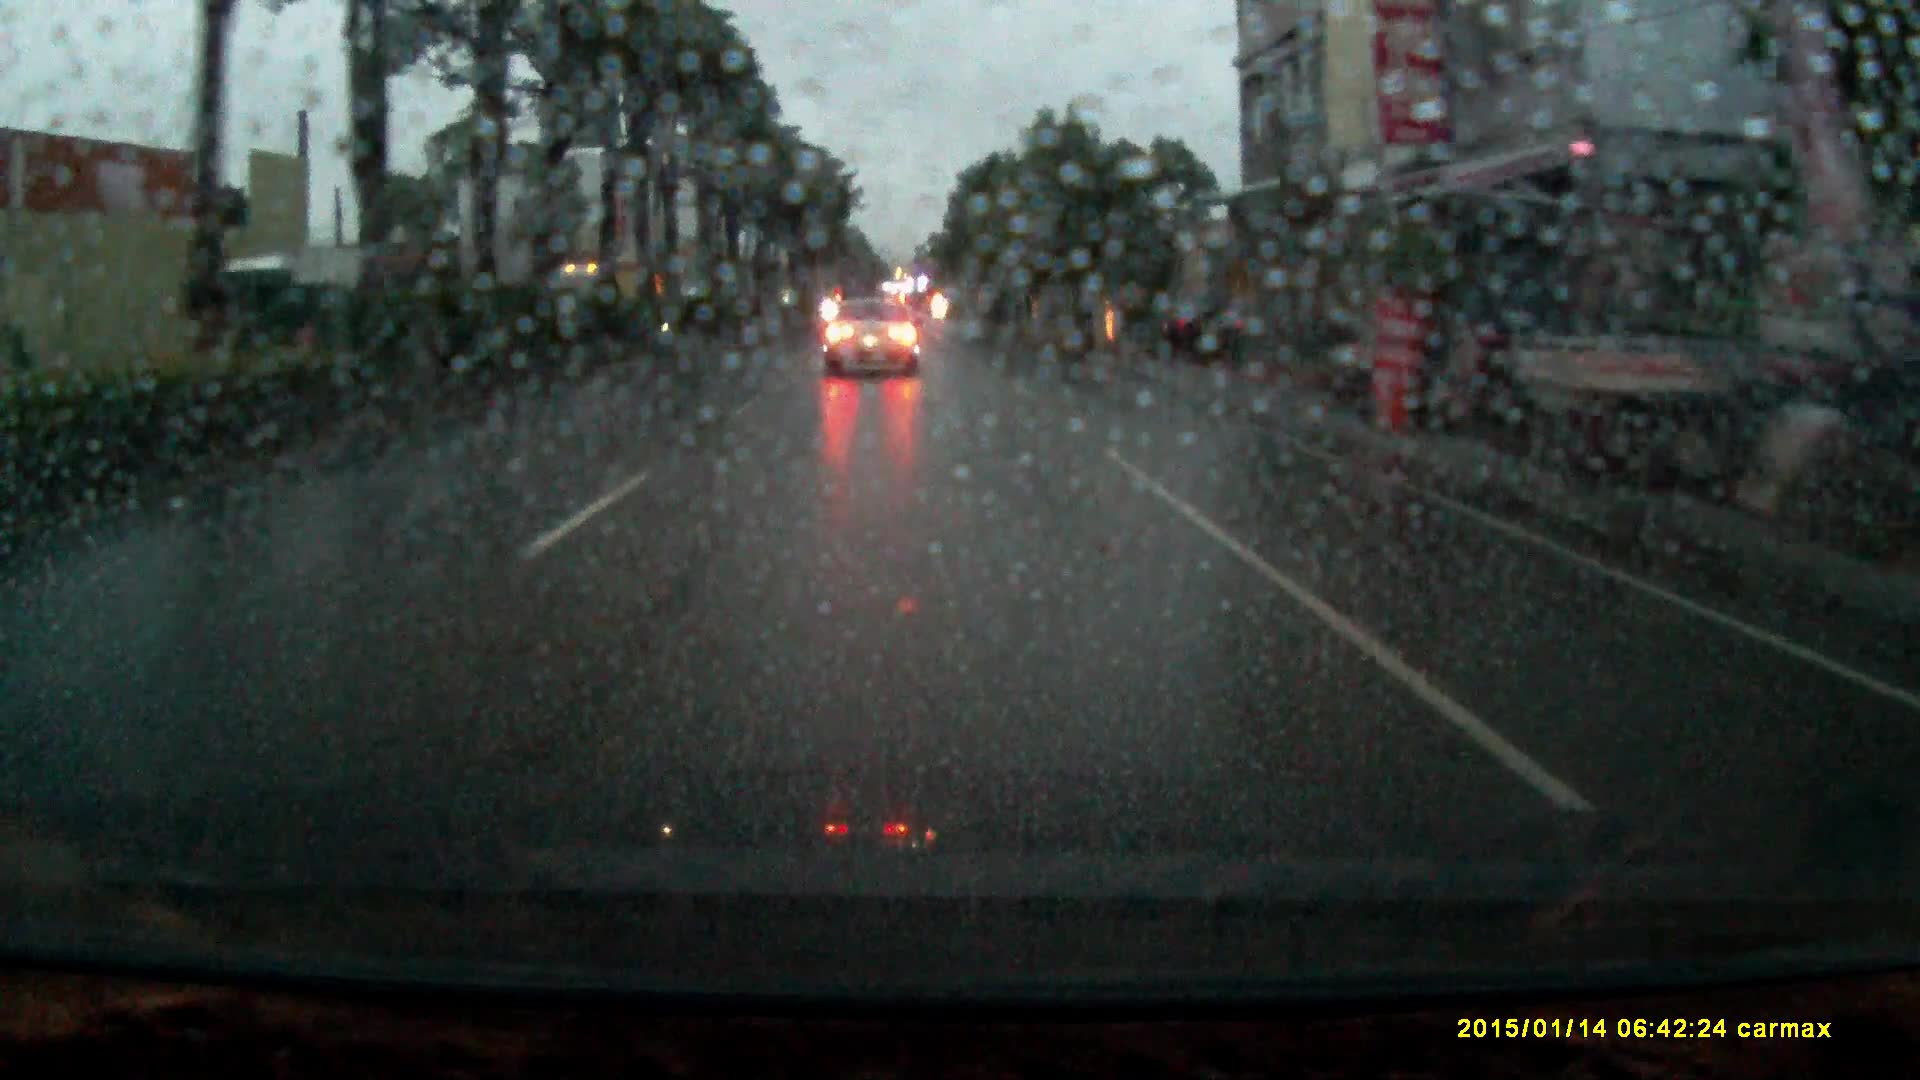vehicle: (203, 249, 398, 364), (824, 298, 923, 382), (1147, 299, 1246, 371), (551, 268, 645, 303)
